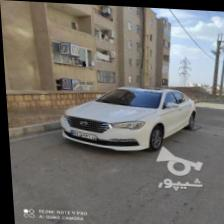plate: (68, 129, 96, 138)
